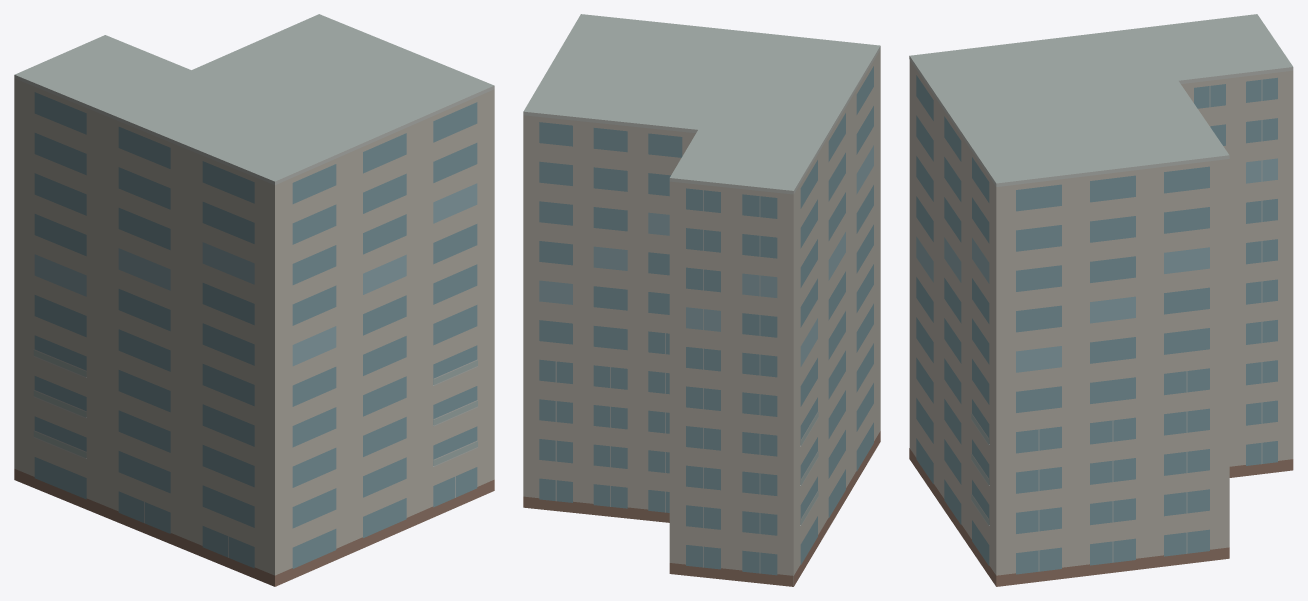
File: survey-upis-33011364.glb
3 renders of one model, left to right at view 1: azimuth 30°, elevation 25°; view 2: azimuth 150°, elevation 25°; view 3: azimuth 270°, elevation 25°, orthographic. The views are drawn at different scales.
Parts seen in each view (by area): view 1: survey-upis-33011364.tmp; view 2: survey-upis-33011364.tmp; view 3: survey-upis-33011364.tmp.
Part boxes in pixels (x1=…): survey-upis-33011364.tmp: x1=14, y1=14, x2=494, y2=586; survey-upis-33011364.tmp: x1=523, y1=14, x2=880, y2=586; survey-upis-33011364.tmp: x1=909, y1=14, x2=1293, y2=586.
Size of the model in its own units: 24.25 by 26.9 by 23.21.
